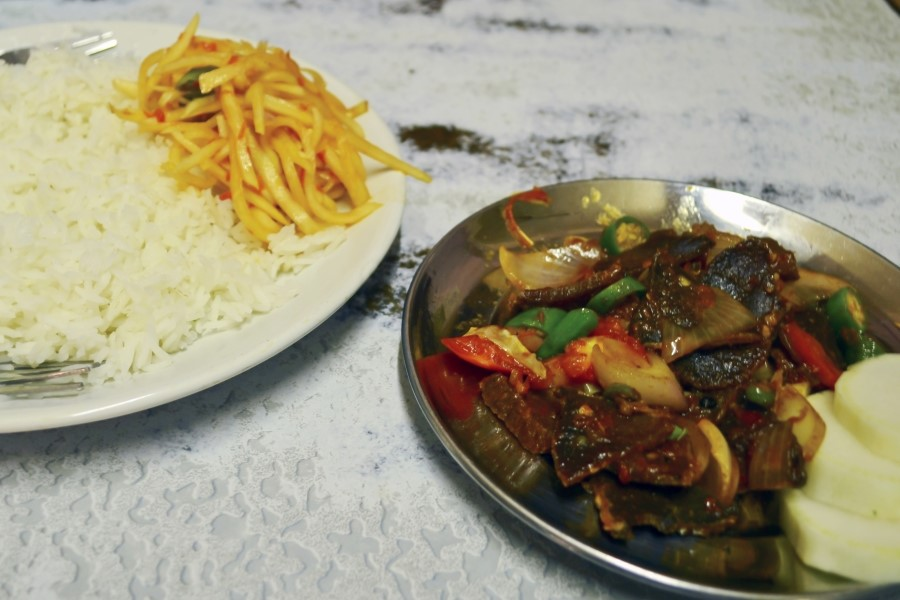plain rice: (13, 91, 166, 350)
